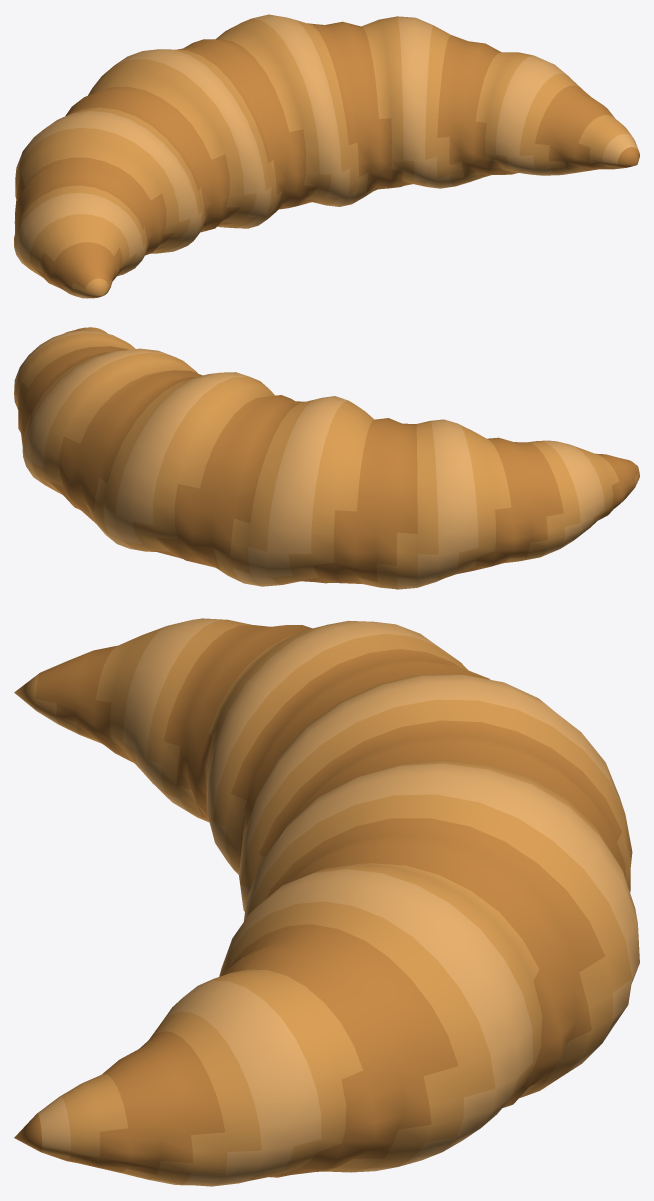
3 views of the same model, one above another, from view 1: azimuth 30°, elevation 25°; view 2: azimuth 150°, elevation 25°; view 3: azimuth 270°, elevation 25° (orthographic). The views are drawn at different scales.
Parts seen in each view (by area): view 1: NEW305_Croissant_LOD2; view 2: NEW305_Croissant_LOD2; view 3: NEW305_Croissant_LOD2.
Part boxes in pixels (x1,y1,x2,y2): NEW305_Croissant_LOD2: (14, 14, 639, 298); NEW305_Croissant_LOD2: (14, 327, 639, 589); NEW305_Croissant_LOD2: (14, 618, 639, 1186).
Size of the model in its own units: 0.1817 by 0.053 by 0.1007.
